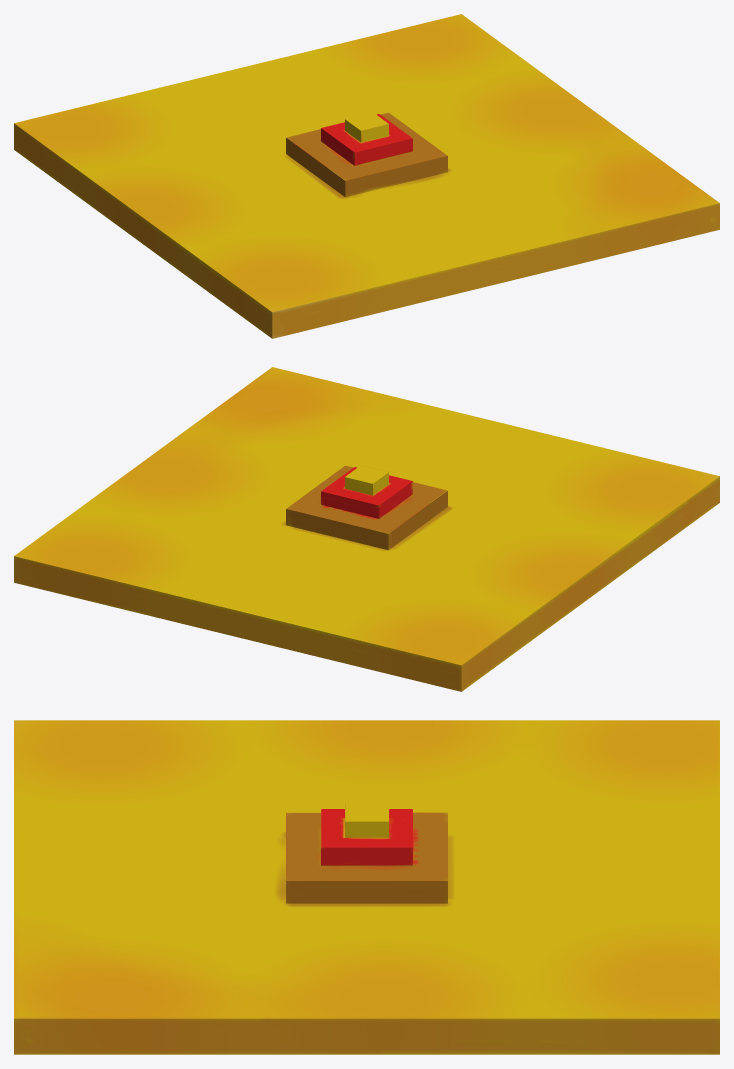
File: platform.fbx
3 views of the same model, one above another, from view 1: azimuth 30°, elevation 25°; view 2: azimuth 150°, elevation 25°; view 3: azimuth 270°, elevation 25° (orthographic). The views are drawn at different scales.
Visible parts, largest first — view 1: pCube1; view 2: pCube1; view 3: pCube1.
Boxes of the visible parts, box(x1,y1,x2,y2) form: pCube1: box(14, 14, 719, 338); pCube1: box(14, 367, 719, 691); pCube1: box(14, 720, 719, 1054).
Bounding box in the file's own units: 8.24 × 1.2 × 8.24.
Materials: 1 (1 with a texture image).
